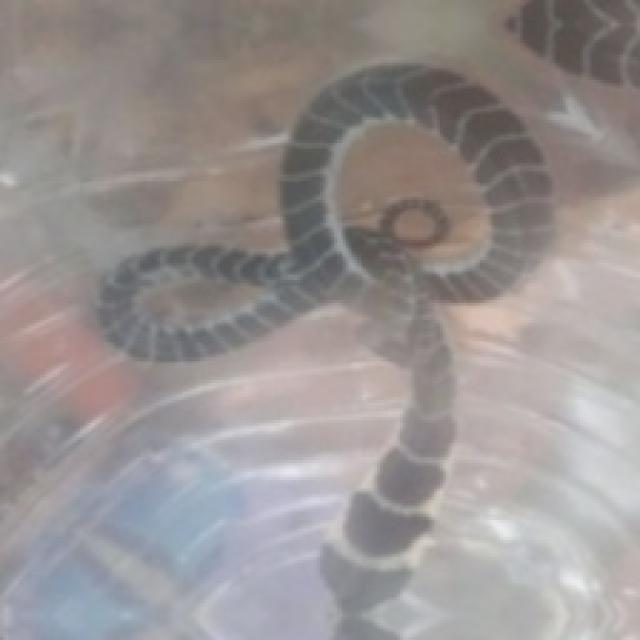king cobra: (103, 0, 637, 637), (97, 63, 551, 637), (331, 117, 491, 289)
